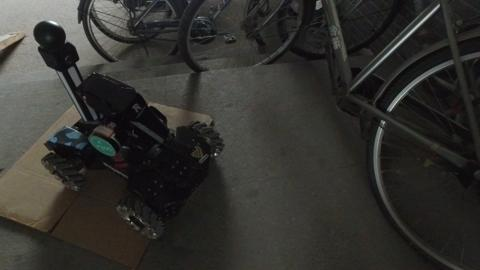chariot: (31, 20, 227, 239)
